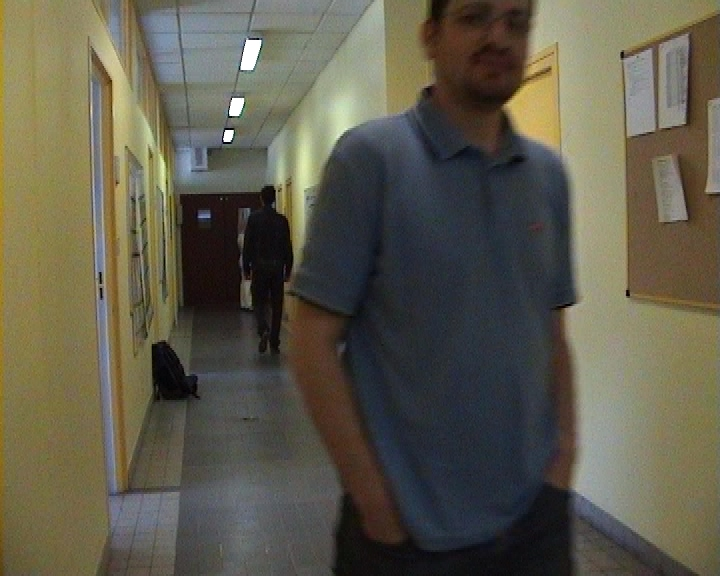leave bag unattended: (134, 307, 200, 431)
